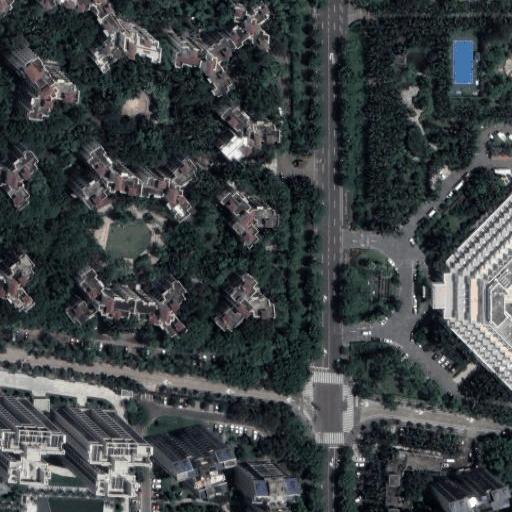building: (432, 195, 512, 390), (73, 136, 189, 208), (67, 264, 183, 336), (166, 0, 261, 79), (89, 14, 164, 72), (6, 41, 62, 109), (54, 407, 121, 462), (213, 96, 273, 156), (206, 268, 267, 326), (144, 419, 208, 472), (214, 182, 270, 239), (429, 462, 492, 512), (232, 459, 277, 509), (0, 139, 31, 198), (0, 242, 26, 302)
